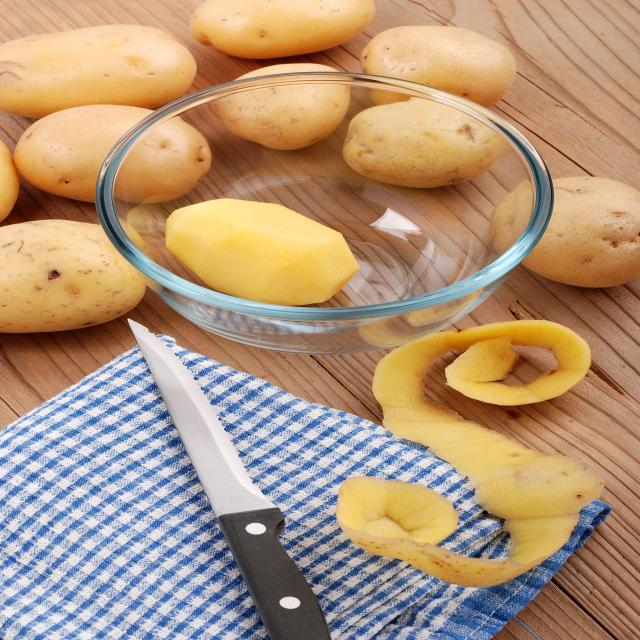potato: (11, 109, 219, 202), (0, 215, 154, 336), (0, 21, 200, 110), (341, 95, 514, 189), (501, 178, 640, 294), (366, 21, 525, 98), (211, 62, 344, 144), (186, 4, 385, 58)
